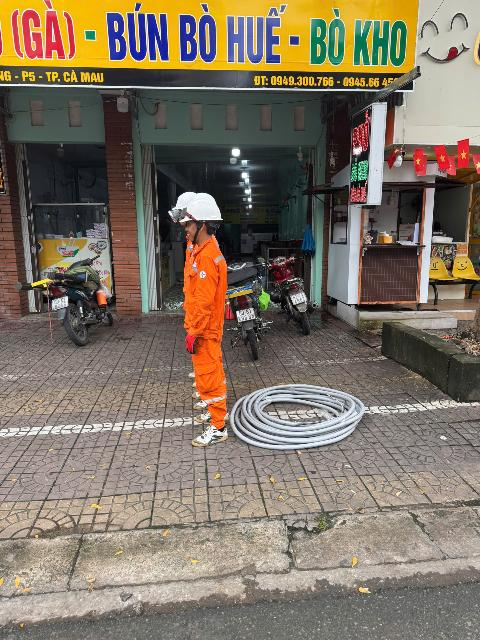gloves: (179, 333, 207, 361)
helmet: (171, 195, 229, 228), (168, 194, 207, 213)
shoes: (180, 425, 233, 452), (195, 411, 239, 423), (183, 368, 208, 381), (188, 399, 218, 408), (188, 389, 208, 396), (187, 382, 209, 386)
